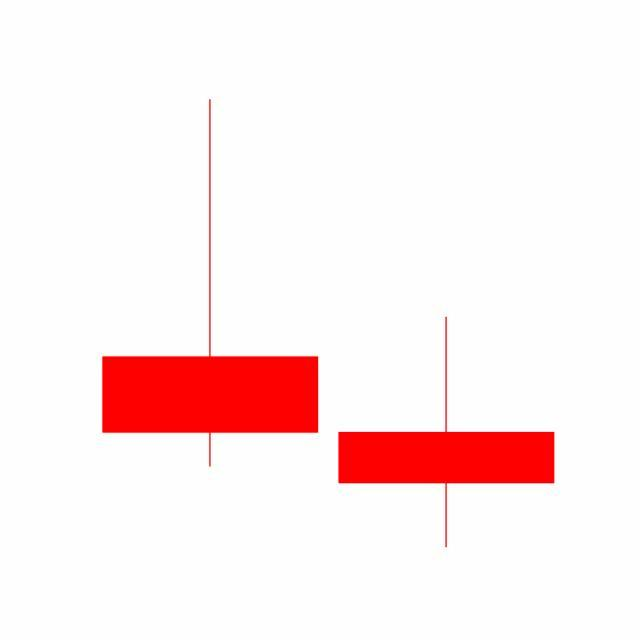Spinning Top: (328, 315, 566, 552)
